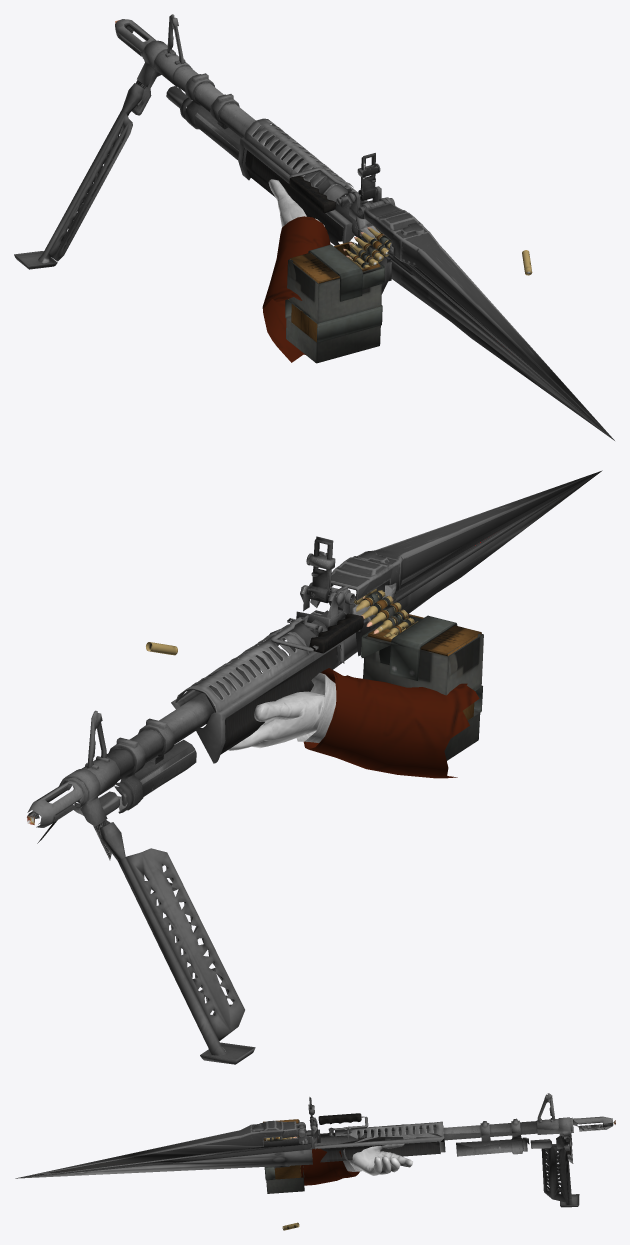
The model's file is frame_29.obj.
The picture shows the model from 3 angles, top to bottom: view 1: azimuth 30°, elevation 25°; view 2: azimuth 150°, elevation 25°; view 3: azimuth 270°, elevation 25°; orthographic projection. The views are drawn at different scales.
Visible parts, largest first — view 1: Mesh.005, PlayerModelMerged.001_PlayerModelMerged, Mesh.001; view 2: Mesh.005, PlayerModelMerged.001_PlayerModelMerged, Mesh.001; view 3: Mesh.005, PlayerModelMerged.001_PlayerModelMerged.
Boxes of the visible parts, left/top/right/bottom form: Mesh.005: left=14, top=14, right=614, bottom=440; PlayerModelMerged.001_PlayerModelMerged: left=262, top=179, right=330, bottom=362; Mesh.001: left=343, top=227, right=391, bottom=268; Mesh.005: left=27, top=470, right=602, bottom=1064; PlayerModelMerged.001_PlayerModelMerged: left=228, top=668, right=479, bottom=778; Mesh.001: left=355, top=590, right=414, bottom=637; Mesh.005: left=15, top=1093, right=613, bottom=1207; PlayerModelMerged.001_PlayerModelMerged: left=300, top=1143, right=412, bottom=1185.
Size of the model in its own units: 0.8106 by 0.6138 by 2.27.
